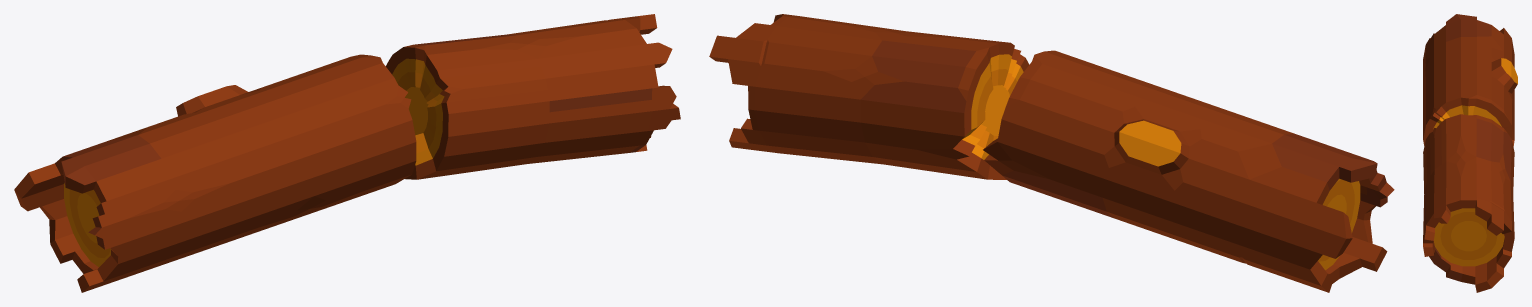
The model's file is Broken log_8.fbx.
3 views of the same model, side by side, from view 1: azimuth 30°, elevation 25°; view 2: azimuth 150°, elevation 25°; view 3: azimuth 270°, elevation 25° (orthographic). The views are drawn at different scales.
Visible parts, largest first — view 1: Circle.012, Circle.009; view 2: Circle.012, Circle.009; view 3: Circle.009, Circle.012.
Boxes of the visible parts, <box> form: Circle.012: <box>14,54,416,292</box>; Circle.009: <box>386,14,680,179</box>; Circle.012: <box>983,50,1394,292</box>; Circle.009: <box>709,14,1029,179</box>; Circle.009: <box>1423,114,1514,292</box>; Circle.012: <box>1423,14,1517,146</box>.
Size of the model in its own units: 111 by 25.83 by 21.48.
